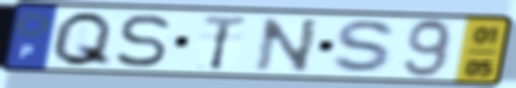9: (399, 17, 455, 82)
N: (253, 17, 323, 74)
Q: (47, 10, 117, 69)
S: (328, 18, 401, 77), (112, 12, 174, 69)
T: (200, 13, 250, 73)
